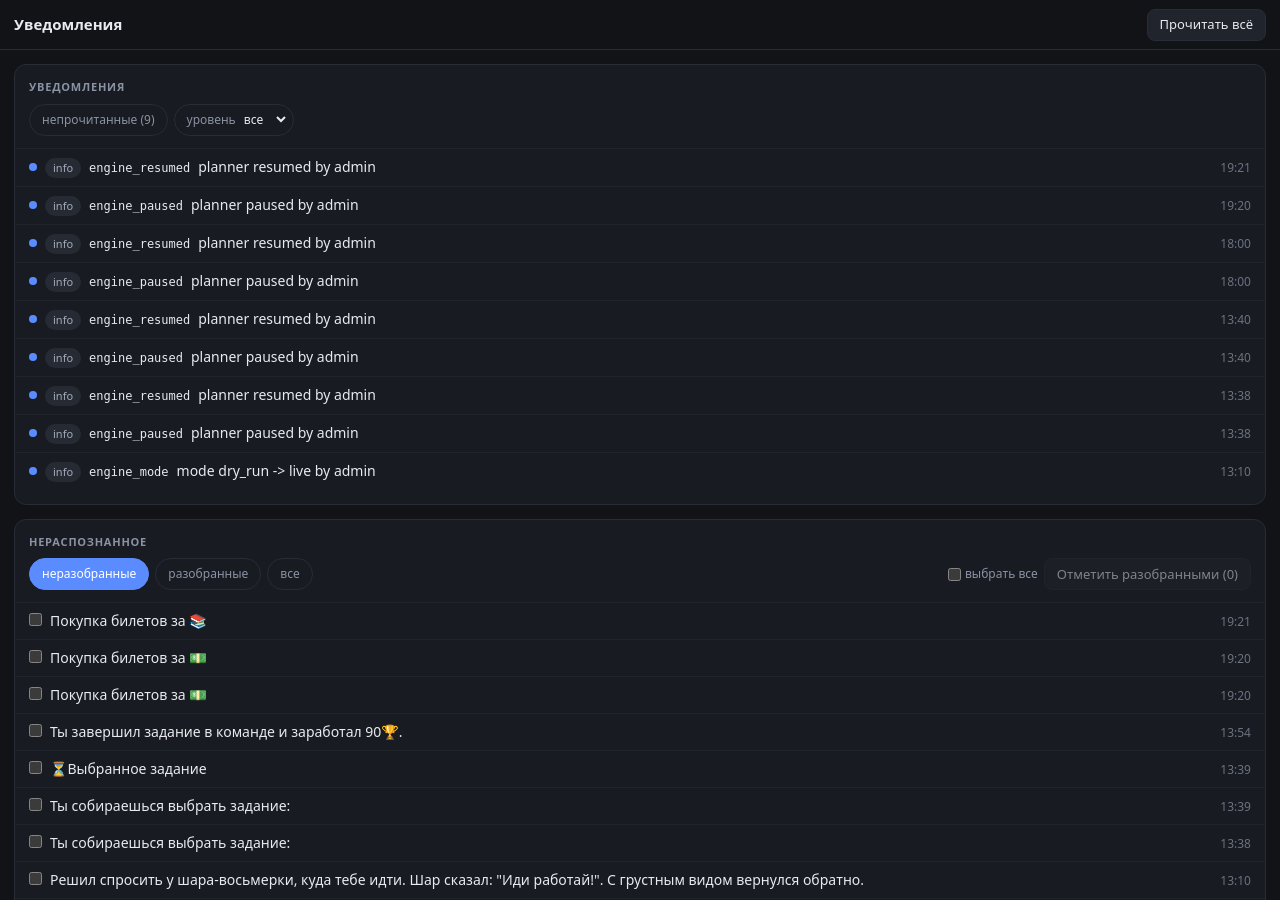
it: Уведомления › список с прода, «Прочитать всё» до последнего id, живое сверху
The width and height of the screenshot is (1280, 900).
Expected: the text "mode dry_run -> live by admin" is shown, [177, 460, 376, 480]
Expected: the button "непрочитанные (9)" is shown, [29, 104, 168, 136]
Click the button "Прочитать всё".
click(1206, 24)  # box [1147, 8, 1266, 40]
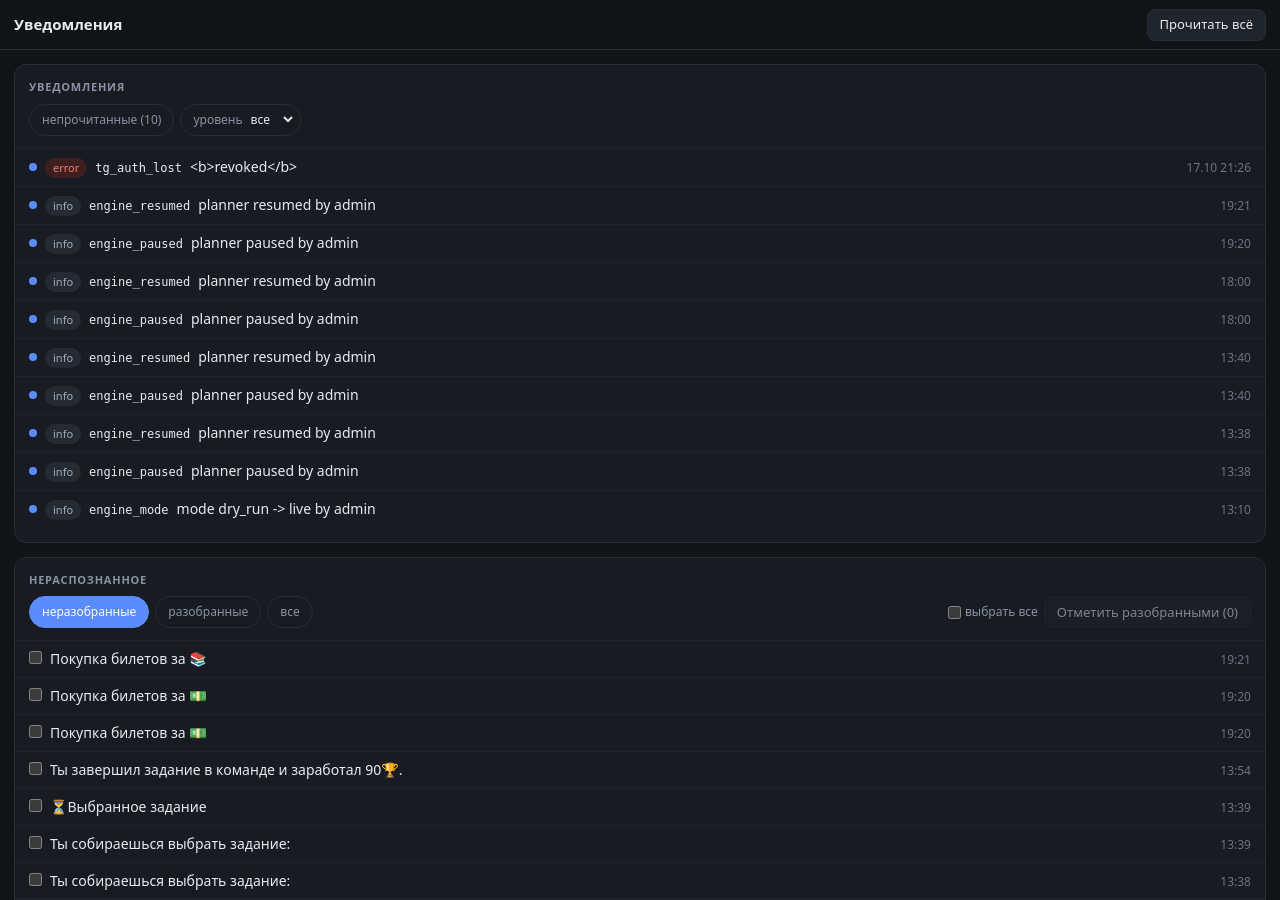
Result: the list item "error tg_auth_lost <b>revoked</b> 17.10 21:26" is shown at [15, 148, 1265, 186]
